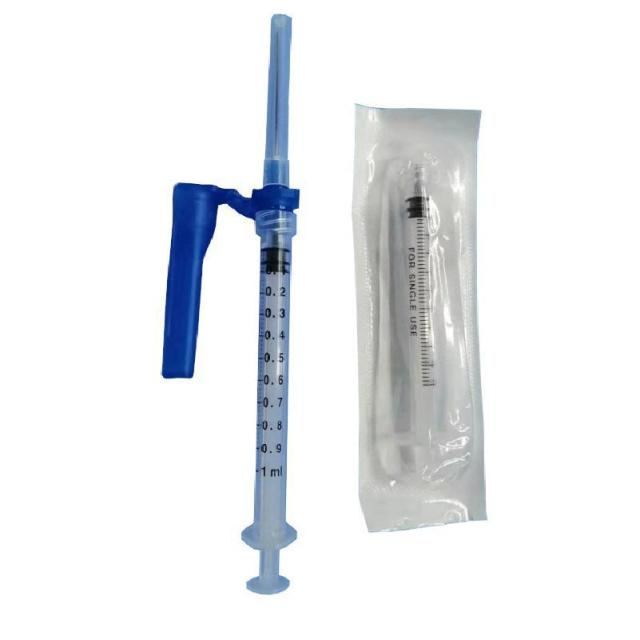B3: (239, 162, 300, 606), (391, 162, 465, 489), (263, 18, 297, 192)
